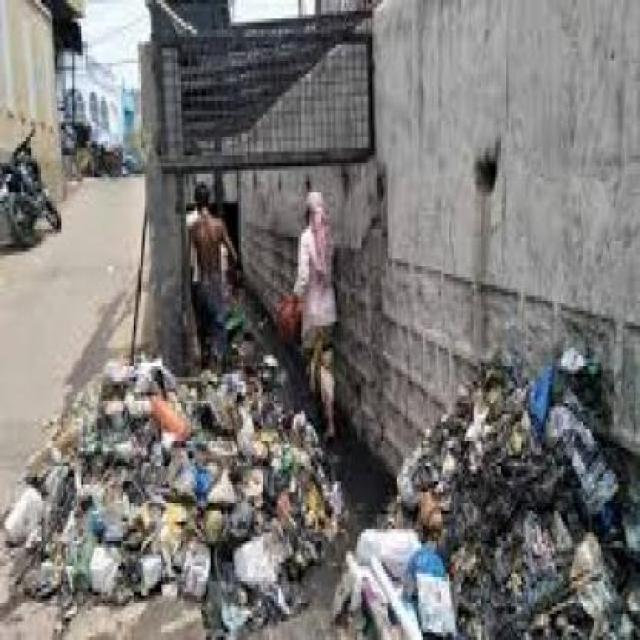garbage: (3, 355, 334, 632), (351, 359, 638, 636)
